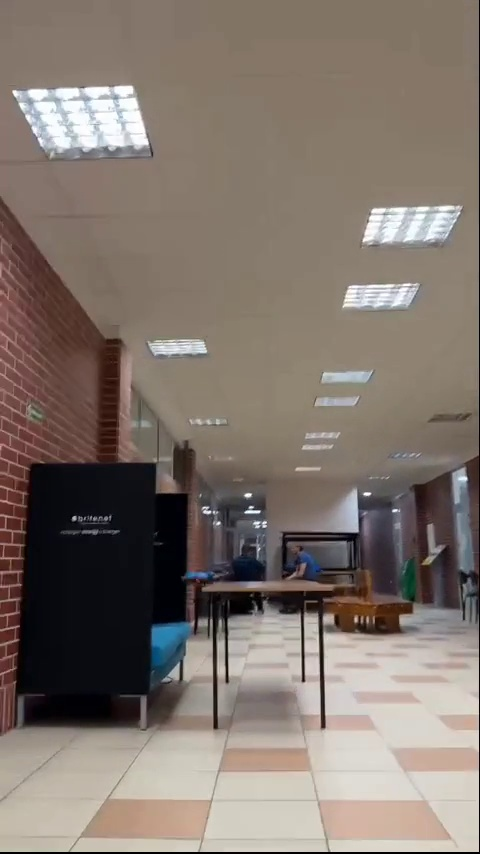drone: (180, 572, 214, 585)
no vest: (234, 543, 265, 578), (287, 543, 318, 578)
